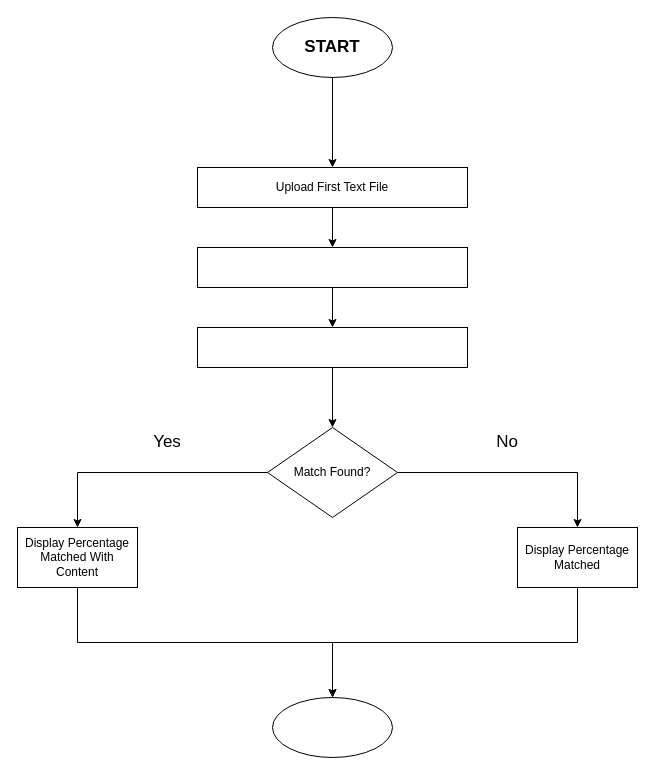
Some shapes in this 655 by 775 pixel diagram are drawn without their labels. The centre of each missing label's shape, as x and y in pixels:
"Apply Rabin-Karp Algo." belongs at point (332, 347).
"STOP" belongs at point (332, 727).
"Upload Second Text File" belongs at point (332, 267).
